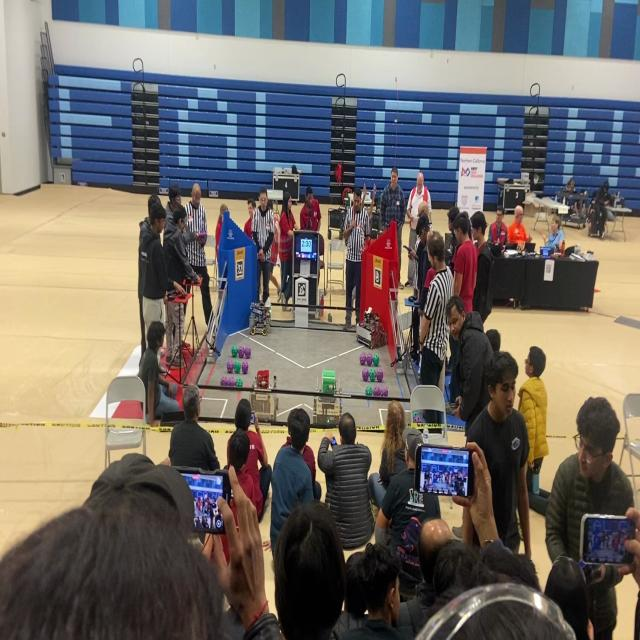artifact_green: (226, 360, 233, 373), (232, 345, 239, 358), (369, 368, 376, 381), (234, 361, 241, 373), (373, 354, 379, 366), (236, 377, 243, 387), (365, 386, 372, 396), (220, 376, 226, 386), (239, 346, 244, 358), (262, 326, 267, 335), (328, 313, 332, 322)
artifact_purple: (413, 412, 423, 424), (362, 368, 369, 381), (226, 360, 233, 373), (376, 369, 383, 382), (373, 386, 381, 397), (369, 368, 375, 382), (235, 377, 243, 387), (238, 346, 244, 359), (360, 352, 366, 365), (242, 361, 248, 373), (245, 347, 251, 359), (366, 354, 372, 366), (227, 376, 234, 386), (382, 386, 388, 397), (365, 386, 372, 395), (221, 377, 227, 386)
